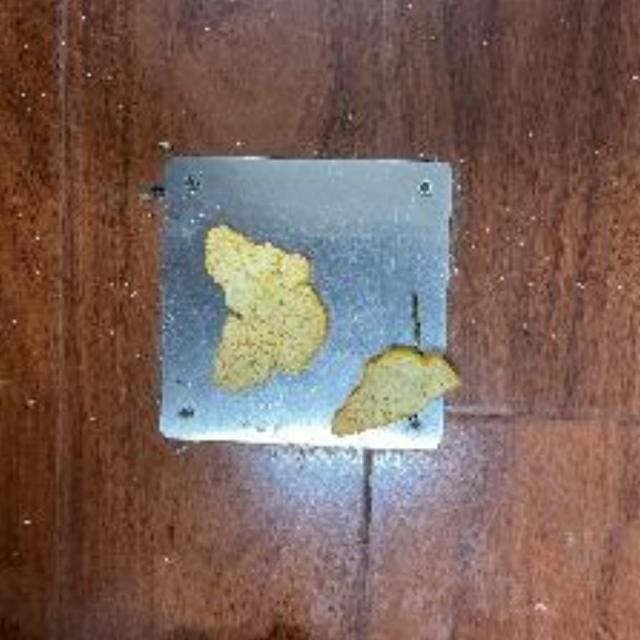orange-peel: (200, 225, 330, 389), (334, 345, 464, 441)
